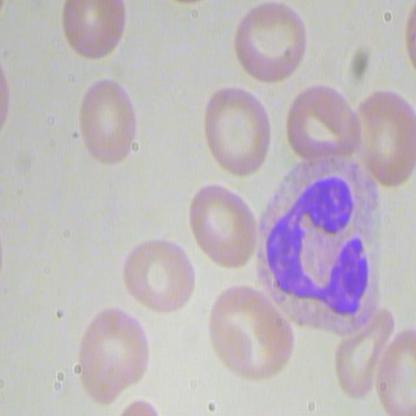RBC: (206, 278, 296, 386), (70, 67, 151, 174), (73, 302, 153, 410), (195, 80, 275, 180), (282, 77, 369, 160), (189, 174, 262, 272), (228, 1, 310, 87), (112, 237, 198, 312), (351, 89, 415, 189), (62, 1, 130, 64)
WBC: (256, 152, 388, 339)
